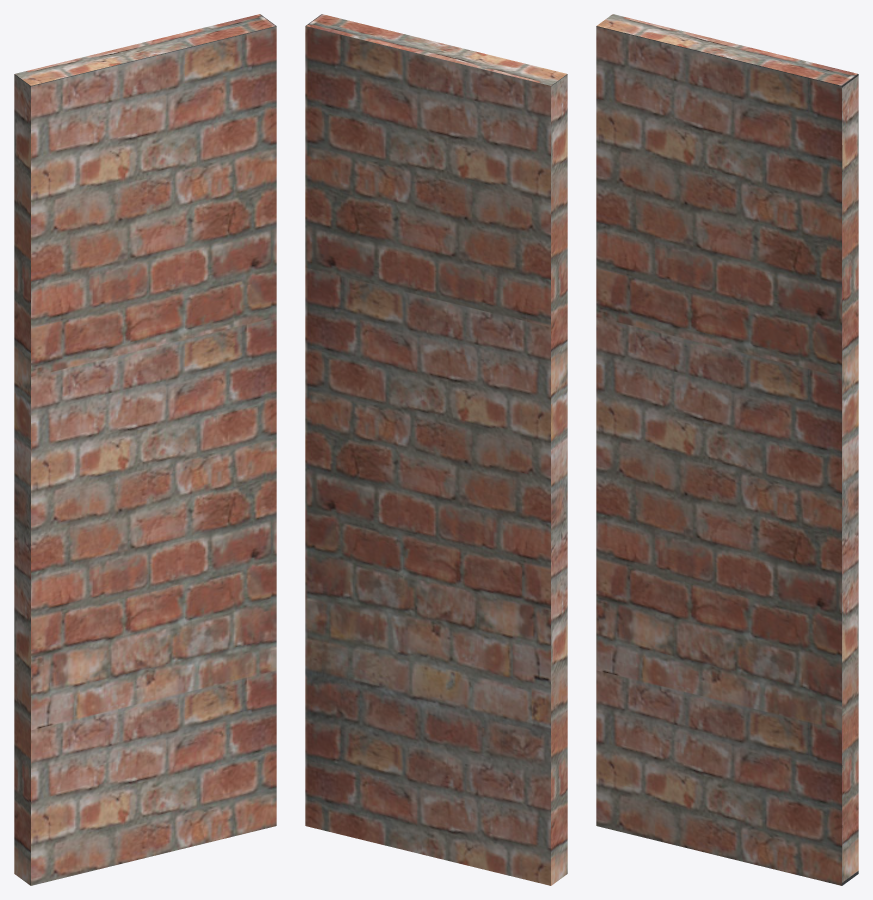
File: BrickVeneer.obj
3 renders of one model, left to right at view 1: azimuth 30°, elevation 25°; view 2: azimuth 150°, elevation 25°; view 3: azimuth 330°, elevation 25°, orthographic.
Parts seen in each view (by area): view 1: WallMesh_WallMeshGeom; view 2: WallMesh_WallMeshGeom; view 3: WallMesh_WallMeshGeom.
Part boxes in pixels (x1,y1,x2,y2): WallMesh_WallMeshGeom: (14, 14, 276, 885); WallMesh_WallMeshGeom: (305, 14, 567, 885); WallMesh_WallMeshGeom: (596, 14, 858, 885).
Bounding box in the file's own units: 0.8795 × 2.74 × 0.1016.
